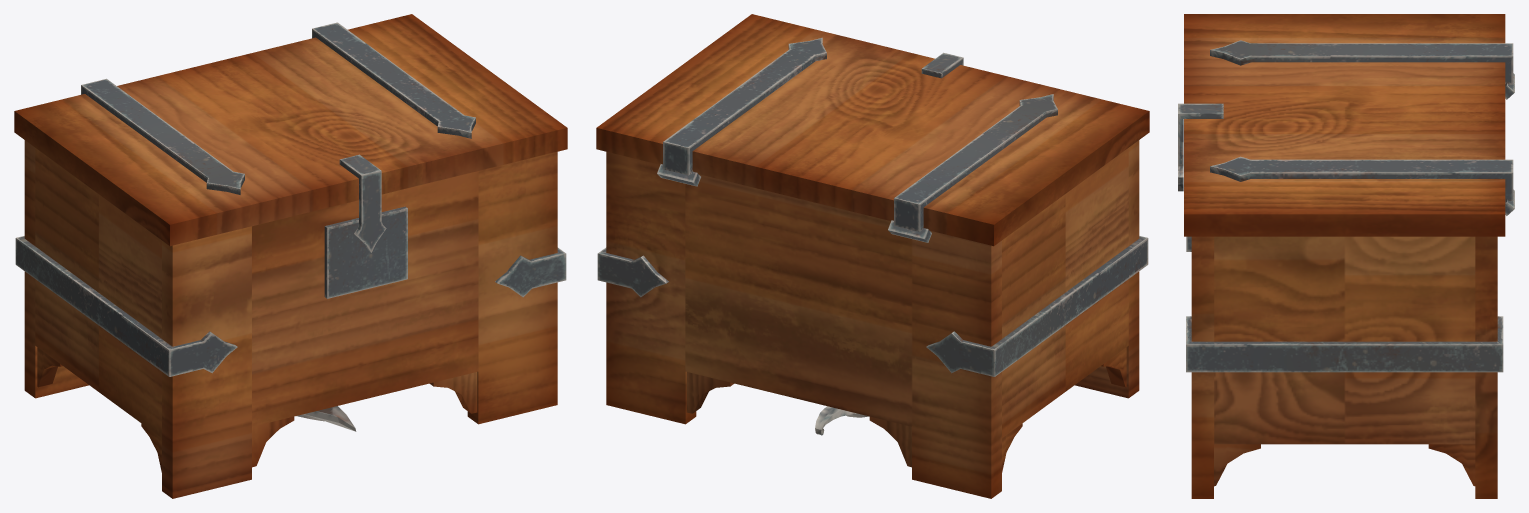
The model's file is SM_PropCluster01_v02.fbx.
The picture shows the model from 3 angles, left to right: view 1: azimuth 30°, elevation 25°; view 2: azimuth 150°, elevation 25°; view 3: azimuth 270°, elevation 25°; orthographic projection. The views are drawn at different scales.
Parts seen in each view (by area): view 1: Cuerpo, Tapa, Metals, Metal, MetalIzq, MetalDer, Metal1, CandleBase; view 2: Cuerpo, Tapa, Metals, MetalIzq, MetalDer, Metal1; view 3: Tapa, Cuerpo, Metals, MetalIzq, MetalDer, Metal1.
Part boxes in pixels (bbox=[...]): Cuerpo: bbox=[24, 140, 557, 498]; Tapa: bbox=[14, 14, 567, 246]; Metals: bbox=[15, 236, 566, 376]; Metal: bbox=[324, 206, 407, 298]; MetalIzq: bbox=[81, 78, 244, 194]; MetalDer: bbox=[312, 22, 475, 138]; Metal1: bbox=[339, 154, 386, 252]; CandleBase: bbox=[296, 406, 356, 431]; Cuerpo: bbox=[606, 140, 1139, 498]; Tapa: bbox=[596, 14, 1149, 246]; Metals: bbox=[597, 236, 1148, 376]; MetalIzq: bbox=[894, 94, 1057, 231]; MetalDer: bbox=[663, 37, 826, 175]; Metal1: bbox=[921, 52, 963, 78]; Tapa: bbox=[1184, 14, 1505, 236]; Cuerpo: bbox=[1191, 236, 1497, 498]; Metals: bbox=[1186, 316, 1503, 372]; MetalIzq: bbox=[1210, 40, 1513, 84]; MetalDer: bbox=[1210, 156, 1513, 200]; Metal1: bbox=[1178, 103, 1223, 191].
Bounding box in the file's own units: 284 × 194 × 201.
1 material, 1 textured.
